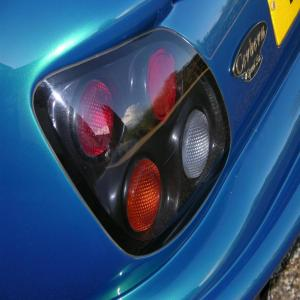Vehicle-registration-plate: (268, 1, 300, 46)
